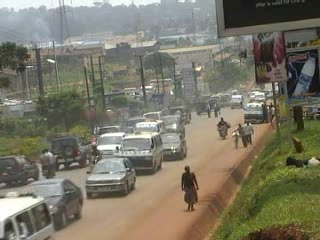Car: (25, 177, 85, 226), (83, 156, 138, 198), (45, 135, 90, 169), (0, 150, 40, 185), (93, 129, 130, 159), (157, 130, 188, 160), (155, 115, 187, 141), (95, 121, 123, 143), (167, 104, 192, 126), (126, 113, 149, 134)
Motorcycle: (38, 144, 57, 180), (215, 114, 232, 140), (88, 141, 104, 165)
